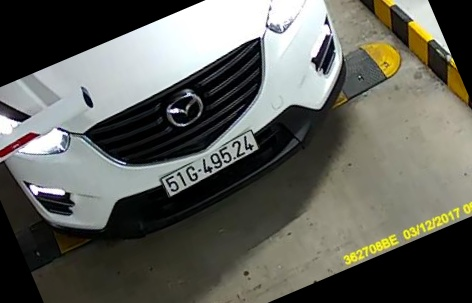plate: (153, 134, 265, 198)
